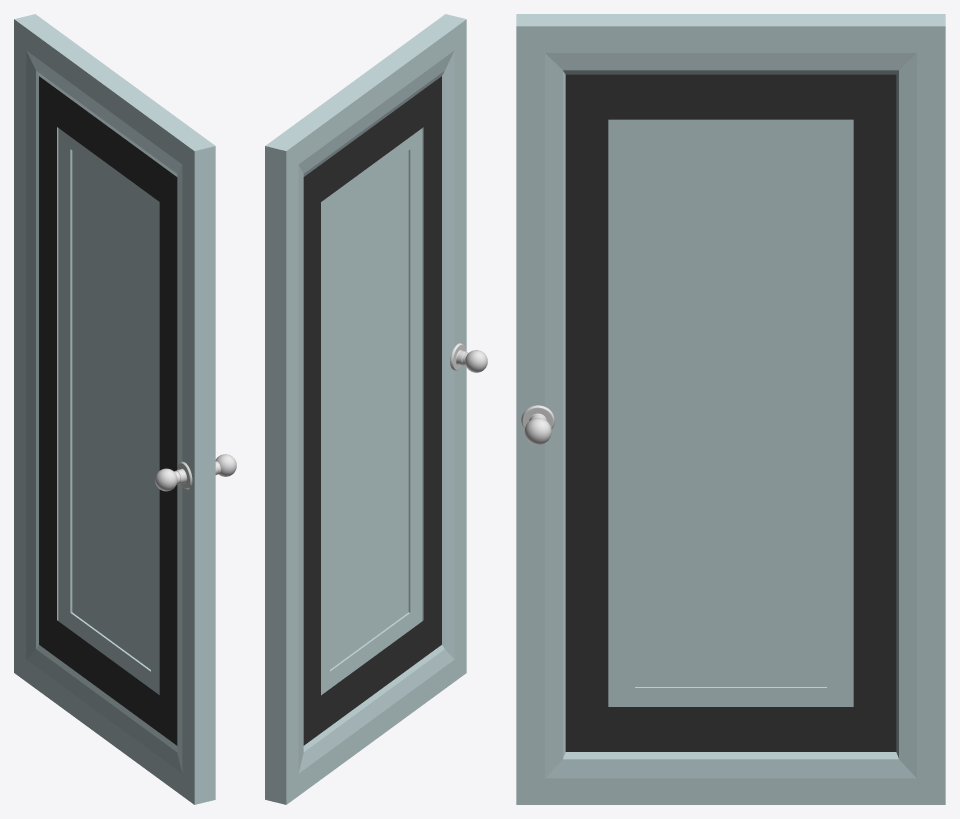
The model's file is door.fbx.
3 views of the same model, side by side, from view 1: azimuth 30°, elevation 25°; view 2: azimuth 150°, elevation 25°; view 3: azimuth 270°, elevation 25° (orthographic). The views are drawn at different scales.
Parts seen in each view (by area): view 1: door, door_lock, door_lock_base; view 2: door, door_lock; view 3: door.
Part boxes in pixels (x1,y1,x2,y2): door: (14,14,215,804); door_lock: (155,454,236,491); door_lock_base: (174,461,220,489); door: (265,14,466,804); door_lock: (465,350,487,372); door: (516,14,945,804).
Size of the model in its own units: 50.48 by 400 by 200.
